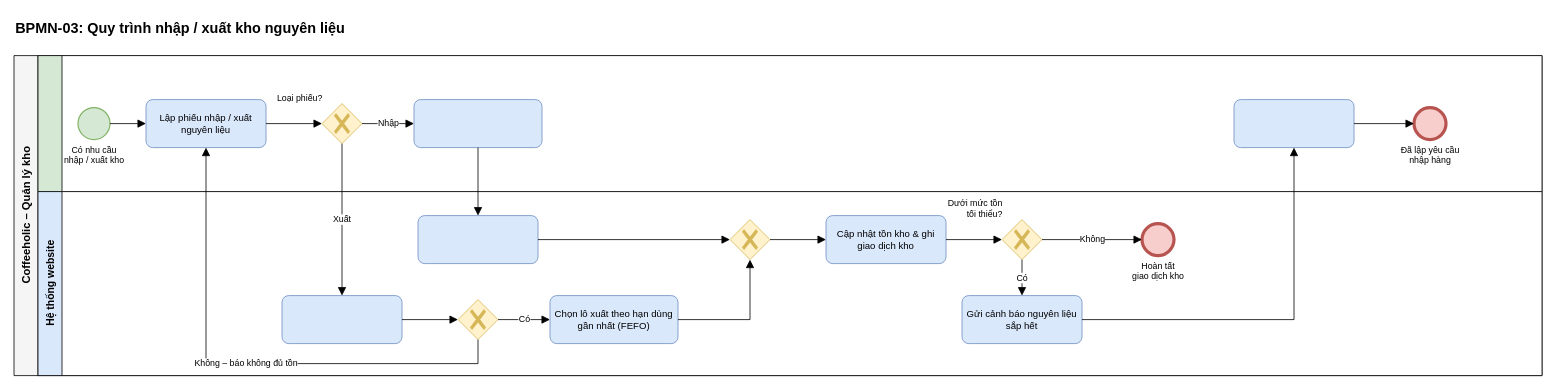
Some shapes in this 1556 by 390 pixel diagram are drawn without their labels. The box of each missing label's shape, as (x1, y1, x2, y2) in pixels:
Kiểm tra số lượng tồn: (281, 295, 402, 344)
Nhân viên: (37, 55, 1542, 192)
Nhận cảnh báo & lập yêu cầu nhập hàng: (1233, 99, 1354, 148)
Nhập thông tin lô (số lượng, đơn giá, hạn dùng): (413, 99, 542, 148)
Tạo lô nguyên liệu mới: (417, 215, 538, 264)
Đủ tồn kho?: (457, 299, 498, 340)
